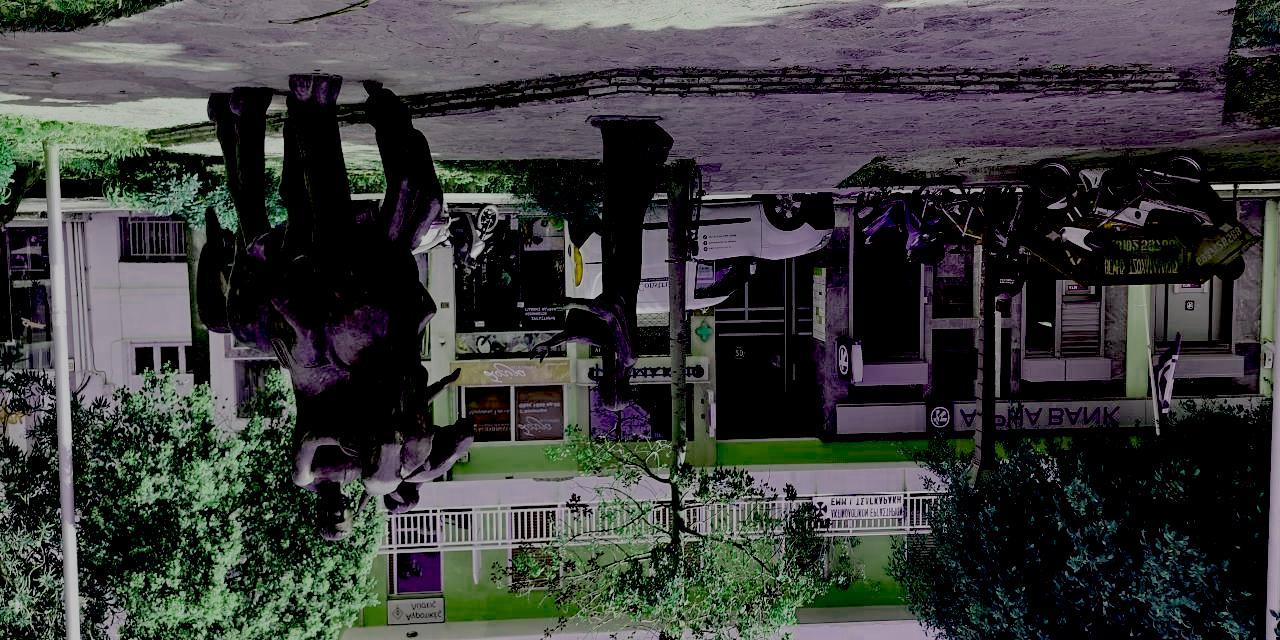Aretousa: (197, 76, 675, 542)
